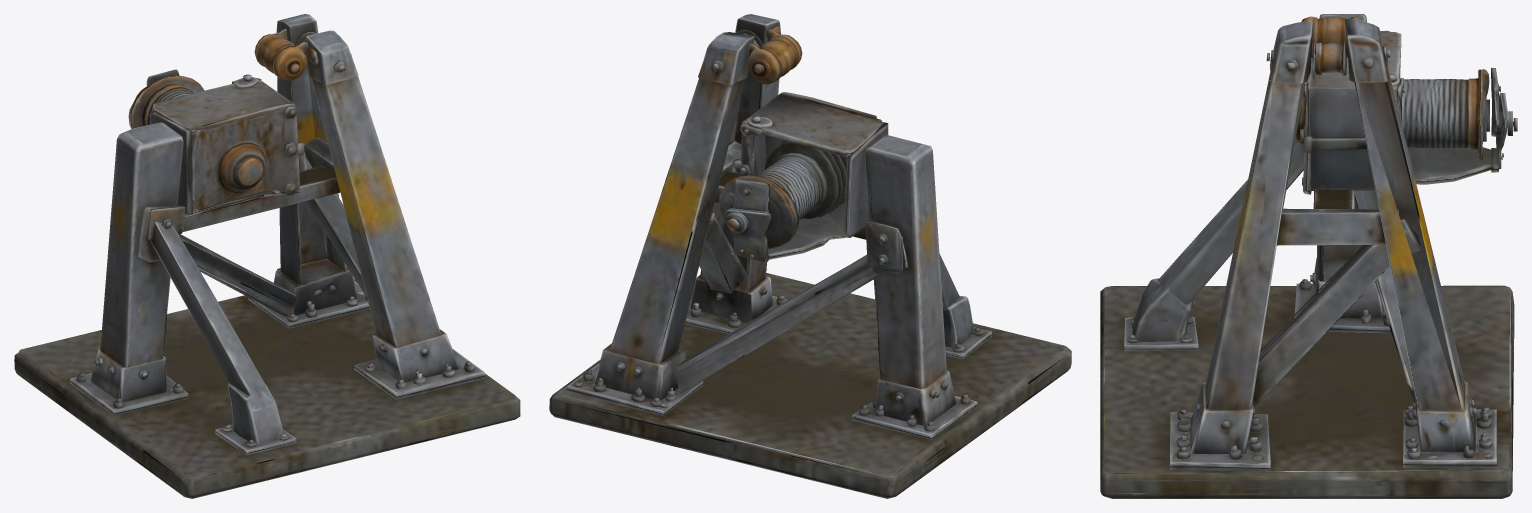
File: zip-anchor.glb
3 renders of one model, left to right at view 1: azimuth 30°, elevation 25°; view 2: azimuth 150°, elevation 25°; view 3: azimuth 270°, elevation 25°, orthographic. The views are drawn at different scales.
Parts seen in each view (by area): view 1: zip-anchor; view 2: zip-anchor; view 3: zip-anchor.
Boxes of the visible parts, x1,y1,x2,y2 form: zip-anchor: (14, 14, 520, 498); zip-anchor: (549, 14, 1071, 498); zip-anchor: (1100, 14, 1517, 498).
Bounding box in the file's own units: 2.62 × 2.6 × 2.41.
Materials: 1 (1 with a texture image).
